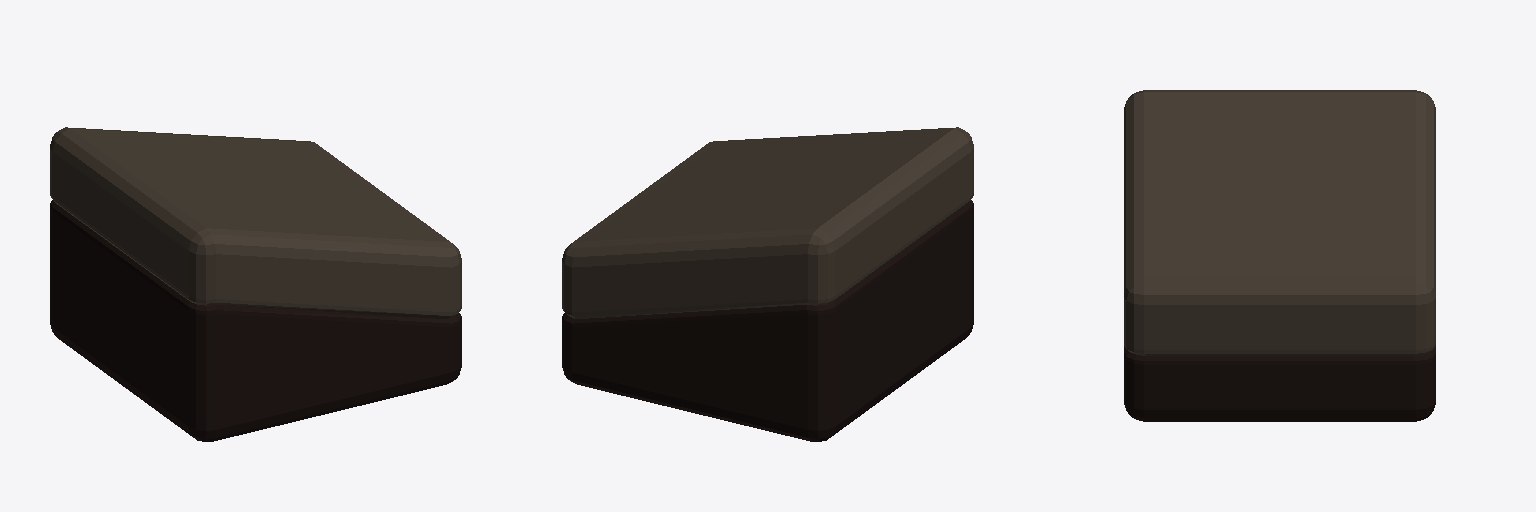
File: tileSlopeLowMedium_graveyard.obj
3 views of the same model, side by side, from view 1: azimuth 30°, elevation 25°; view 2: azimuth 150°, elevation 25°; view 3: azimuth 270°, elevation 25° (orthographic).
Parts seen in each view (by area): view 1: tileSlopeLowMedium_graveyard_Cube.054; view 2: tileSlopeLowMedium_graveyard_Cube.054; view 3: tileSlopeLowMedium_graveyard_Cube.054.
Boxes of the visible parts, x1,y1,x2,y2 form: tileSlopeLowMedium_graveyard_Cube.054: [50, 127, 461, 441]; tileSlopeLowMedium_graveyard_Cube.054: [562, 127, 973, 441]; tileSlopeLowMedium_graveyard_Cube.054: [1124, 90, 1435, 421].
Bounding box in the file's own units: 2 × 1.5 × 2.